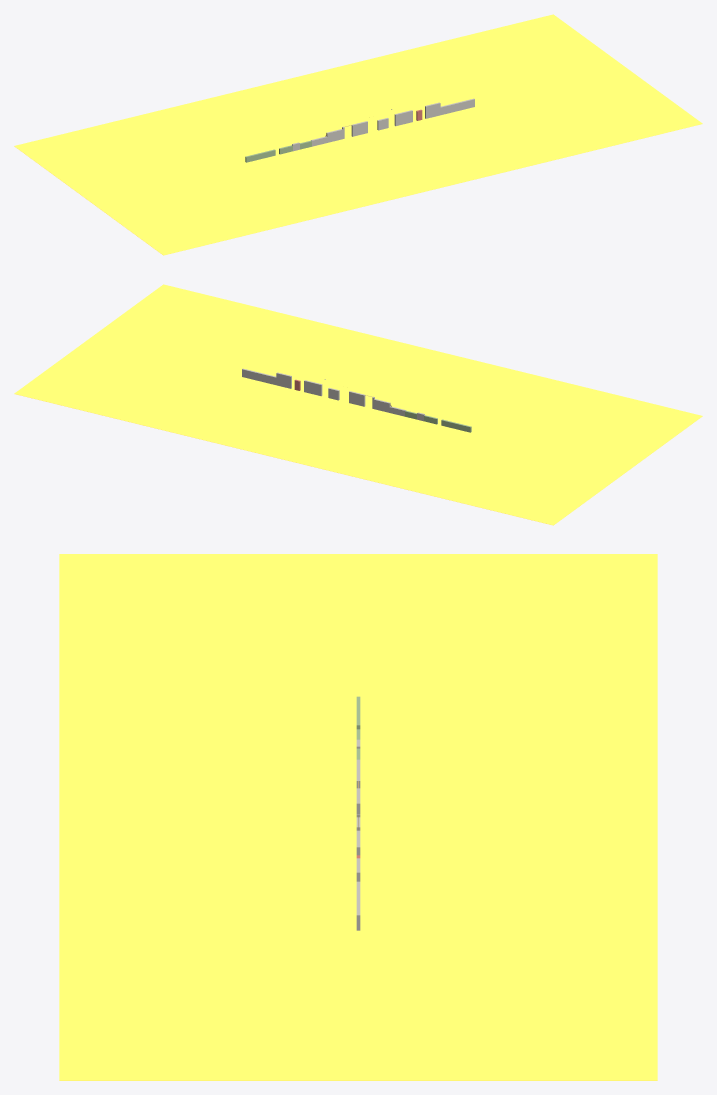
File: training.glb
3 views of the same model, one above another, from view 1: azimuth 30°, elevation 25°; view 2: azimuth 150°, elevation 25°; view 3: azimuth 270°, elevation 25° (orthographic). The views are drawn at different scales.
Visible parts, largest first — view 1: Training course: every move; view 2: Training course: every move; view 3: Training course: every move.
Boxes of the visible parts, box(x1,y1,x2,y2) form: Training course: every move: box(14, 14, 702, 255); Training course: every move: box(14, 284, 702, 525); Training course: every move: box(59, 554, 657, 1080).
Size of the model in its own units: 625 by 21.5 by 300.
